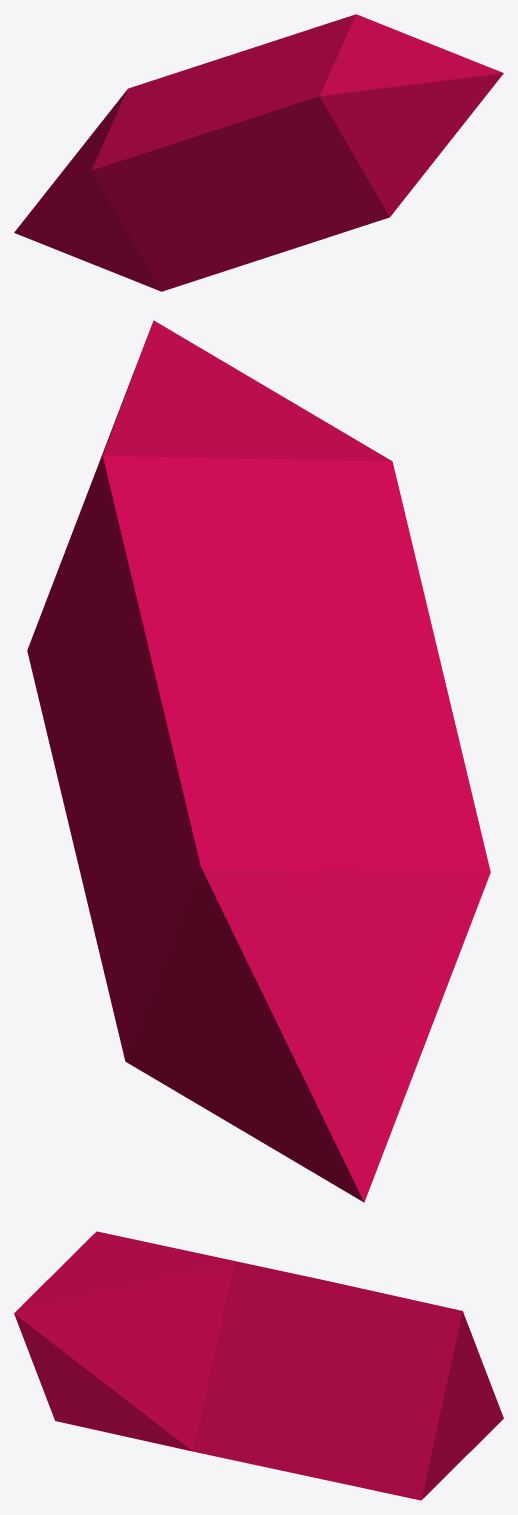
Rendered from left_arm_lower.obj.
3 renders of one model, top to bottom at view 1: azimuth 30°, elevation 25°; view 2: azimuth 150°, elevation 25°; view 3: azimuth 270°, elevation 25°, orthographic. The views are drawn at different scales.
Parts seen in each view (by area): view 1: left_arm_lower; view 2: left_arm_lower; view 3: left_arm_lower.
Part boxes in pixels (x1=…): left_arm_lower: x1=14, y1=14, x2=503, y2=291; left_arm_lower: x1=27, y1=320, x2=490, y2=1202; left_arm_lower: x1=14, y1=1231, x2=503, y2=1500.
Size of the model in its own units: 0.8474 by 0.6768 by 0.9481.
